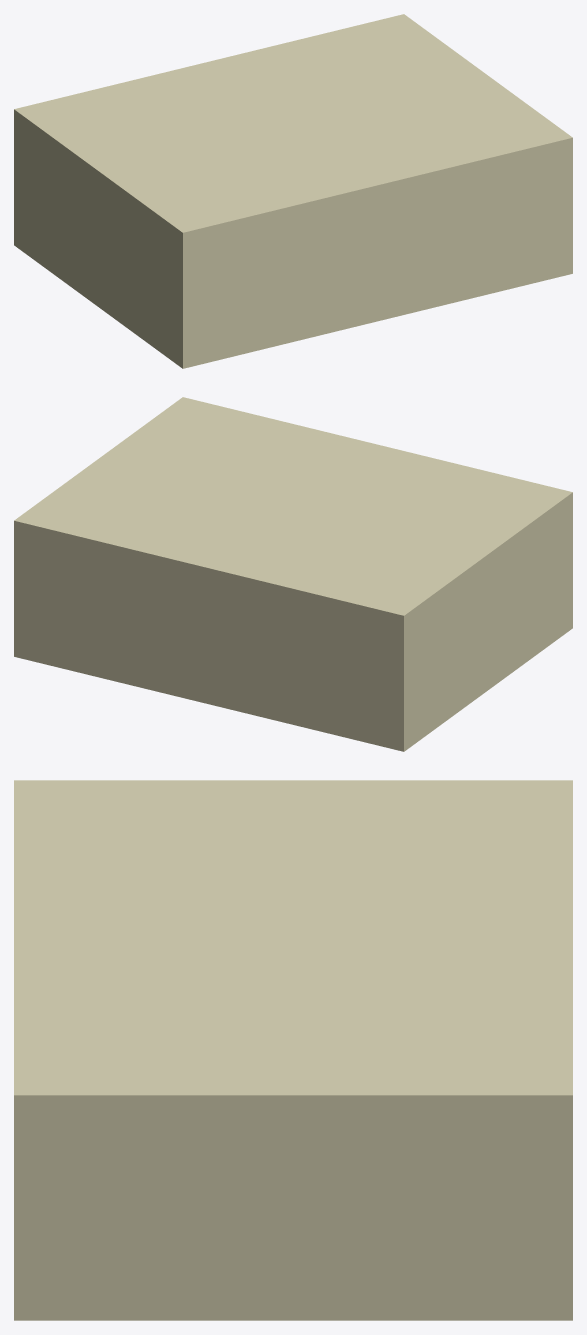
File: StreetLight_Glow.glb
The picture shows the model from 3 angles, top to bottom: view 1: azimuth 30°, elevation 25°; view 2: azimuth 150°, elevation 25°; view 3: azimuth 270°, elevation 25°; orthographic projection. The views are drawn at different scales.
Visible parts, largest first — view 1: StreetLight_Glow; view 2: StreetLight_Glow; view 3: StreetLight_Glow.
Part boxes in pixels (bbox=[...]): StreetLight_Glow: bbox=[14, 14, 572, 368]; StreetLight_Glow: bbox=[14, 397, 572, 751]; StreetLight_Glow: bbox=[14, 780, 572, 1320].
Size of the model in its own units: 0.6 by 0.2 by 0.45.
